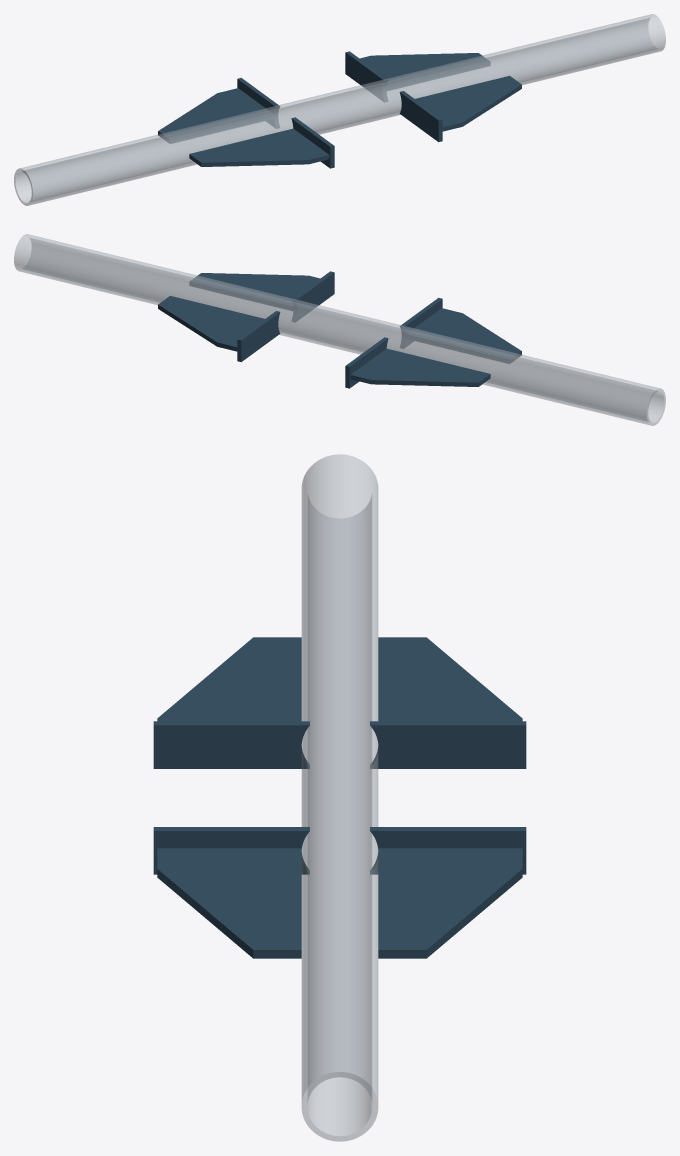
File: TS-660.00.00-opora-dn32.glb
The picture shows the model from 3 angles, top to bottom: view 1: azimuth 30°, elevation 25°; view 2: azimuth 150°, elevation 25°; view 3: azimuth 270°, elevation 25°; orthographic projection. The views are drawn at different scales.
Visible parts, largest first — view 1: truba, upor_4, upor_8, upor_6, upor_2, upor_1, upor_5, upor_3, upor_7; view 2: truba, upor_8, upor_4, upor_2, upor_6, upor_5, upor_1, upor_7, upor_3; view 3: truba, upor_2, upor_6, upor_4, upor_8, upor_3, upor_7, upor_1, upor_5.
Part boxes in pixels (left/top/right/bottom): truba: left=14, top=14, right=665, bottom=205; upor_4: left=189, top=128, right=329, bottom=166; upor_8: left=158, top=88, right=273, bottom=143; upor_6: left=359, top=53, right=490, bottom=90; upor_2: left=415, top=76, right=521, bottom=131; upor_1: left=399, top=91, right=442, bottom=142; upor_5: left=345, top=51, right=388, bottom=101; upor_3: left=291, top=117, right=334, bottom=168; upor_7: left=237, top=77, right=280, bottom=128; truba: left=14, top=234, right=665, bottom=425; upor_8: left=350, top=348, right=490, bottom=386; upor_4: left=406, top=308, right=521, bottom=363; upor_2: left=189, top=273, right=320, bottom=310; upor_6: left=158, top=296, right=264, bottom=351; upor_5: left=237, top=311, right=280, bottom=362; upor_1: left=291, top=271, right=334, bottom=321; upor_7: left=345, top=337, right=388, bottom=388; upor_3: left=399, top=297, right=442, bottom=348; truba: left=301, top=454, right=378, bottom=1141; upor_2: left=157, top=848, right=301, bottom=958; upor_6: left=378, top=848, right=522, bottom=958; upor_4: left=157, top=637, right=301, bottom=721; upor_8: left=378, top=637, right=522, bottom=721; upor_3: left=153, top=721, right=309, bottom=768; upor_7: left=370, top=721, right=526, bottom=768; upor_1: left=153, top=827, right=309, bottom=874; upor_5: left=370, top=827, right=526, bottom=874.
Bounding box in the file's own units: 608 × 32 × 155.
